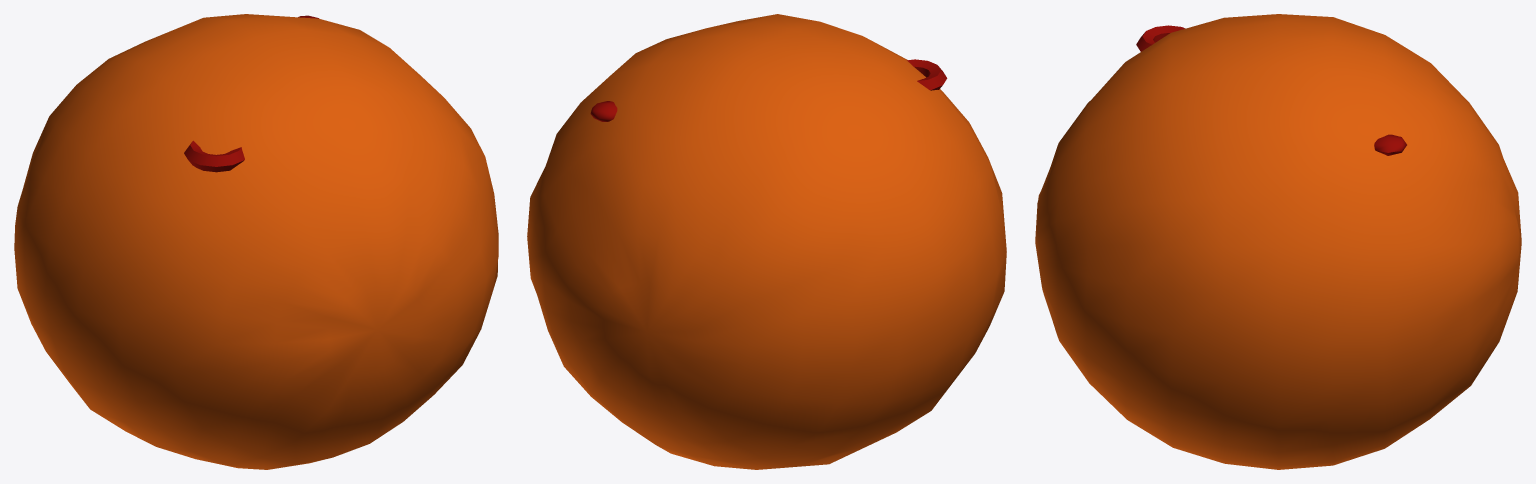
File: shot_orange.glb
3 renders of one model, left to right at view 1: azimuth 30°, elevation 25°; view 2: azimuth 150°, elevation 25°; view 3: azimuth 270°, elevation 25°, orthographic.
Parts seen in each view (by area): view 1: or_ball, or_navel; view 2: or_ball, or_navel; view 3: or_ball, or_navel, or_scar.
Part boxes in pixels (x1=…): or_ball: x1=14, y1=14, x2=498, y2=469; or_navel: x1=184, y1=140, x2=244, y2=172; or_ball: x1=527, y1=14, x2=1006, y2=469; or_navel: x1=907, y1=59, x2=947, y2=90; or_ball: x1=1035, y1=14, x2=1521, y2=469; or_navel: x1=1136, y1=25, x2=1185, y2=51; or_scar: x1=1374, y1=134, x2=1406, y2=155.
Size of the model in its own units: 11.53 by 10.61 by 11.48.
